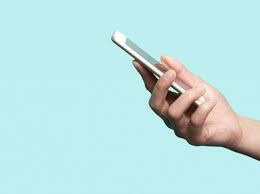Hand: (127, 50, 240, 146)
Smartphone: (99, 36, 210, 113)
